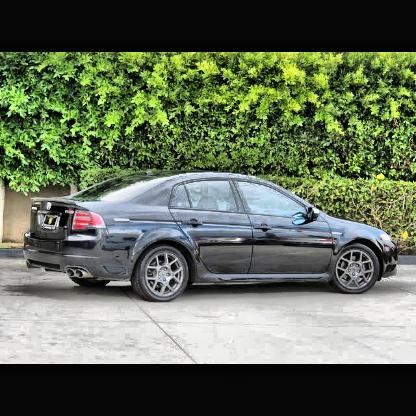Acura TL Type-S 2008: (23, 171, 402, 303)
